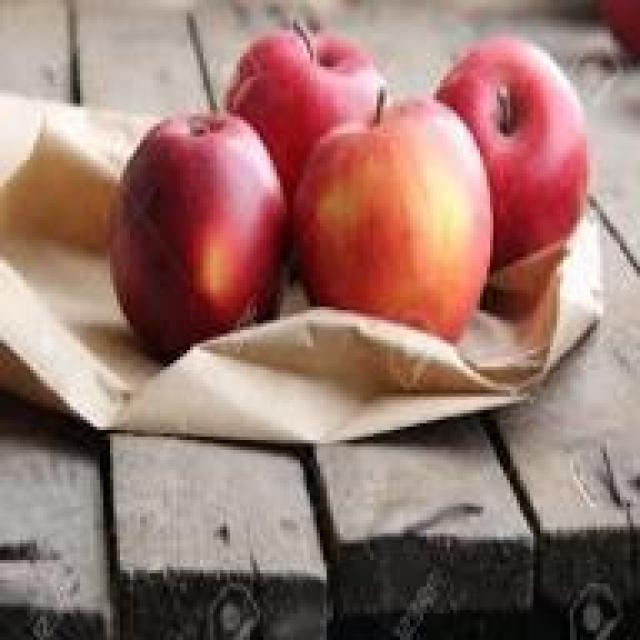apple: (110, 110, 293, 350), (313, 104, 487, 354), (437, 43, 593, 260), (223, 33, 390, 170)
